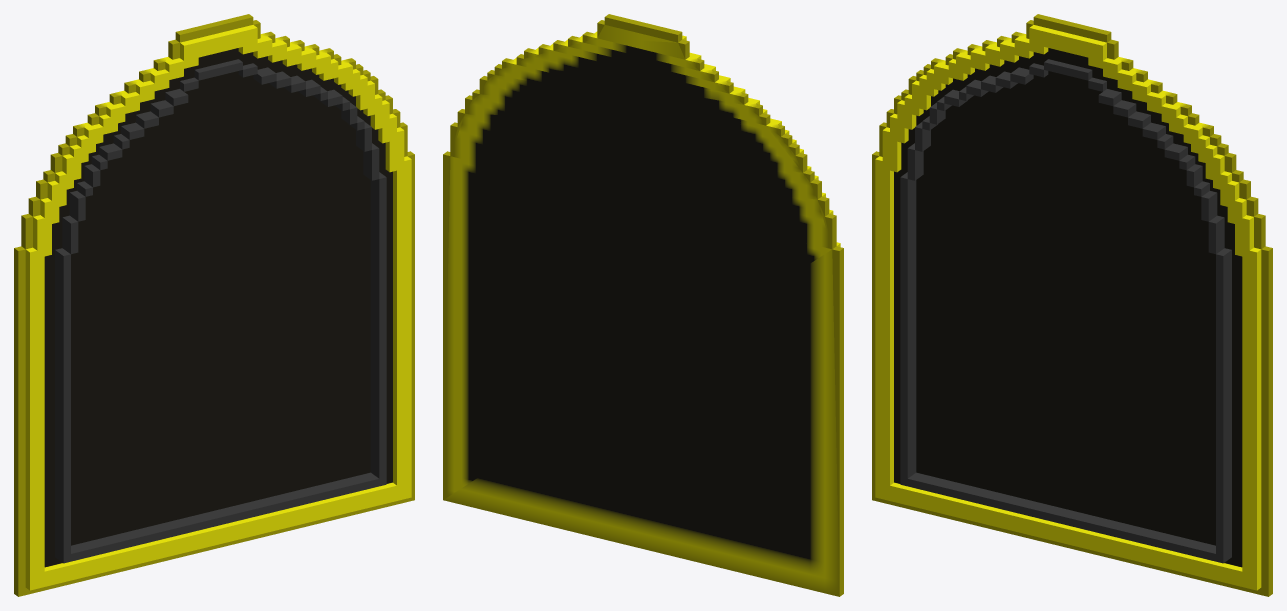
The model's file is Frame.fbx.
3 views of the same model, side by side, from view 1: azimuth 30°, elevation 25°; view 2: azimuth 150°, elevation 25°; view 3: azimuth 330°, elevation 25° (orthographic).
Visible parts, largest first — view 1: Frame.Merged; view 2: Frame.Merged; view 3: Frame.Merged.
Boxes of the visible parts, bbox=[...] form: Frame.Merged: bbox=[14, 14, 414, 596]; Frame.Merged: bbox=[443, 14, 843, 596]; Frame.Merged: bbox=[872, 14, 1272, 596].
Size of the model in its own units: 10800 by 13600 by 600.
